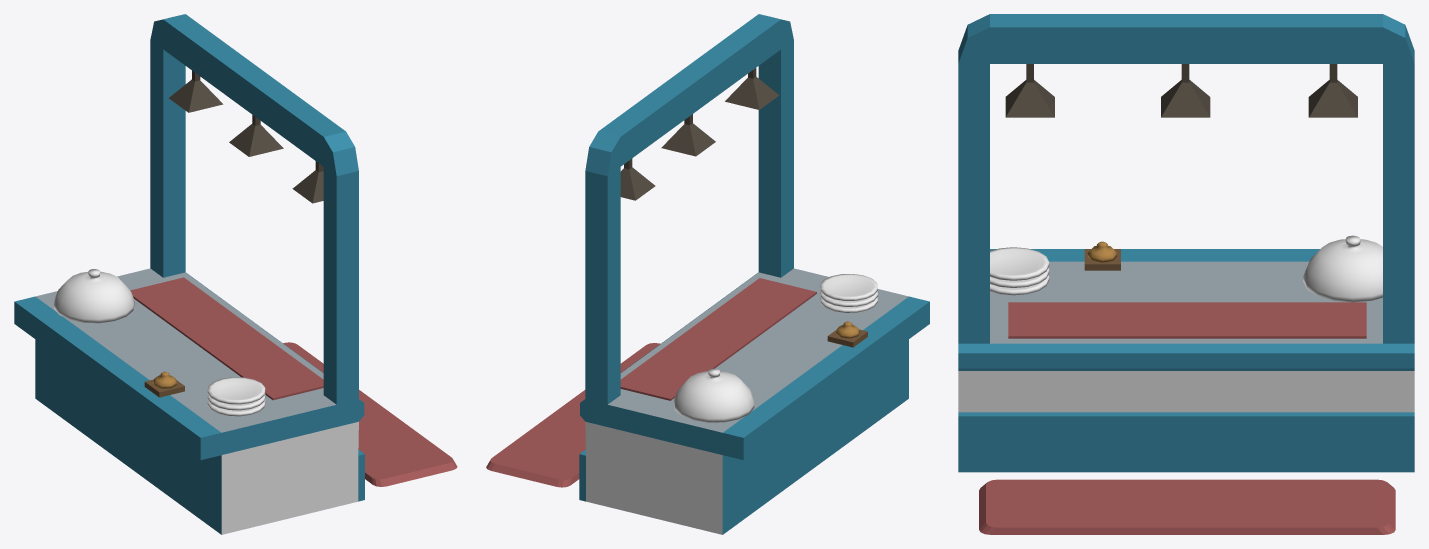
The model's file is 3D_workstation_Dish-pass.fbx.
3 views of the same model, side by side, from view 1: azimuth 30°, elevation 25°; view 2: azimuth 150°, elevation 25°; view 3: azimuth 270°, elevation 25° (orthographic). The views are drawn at different scales.
Visible parts, largest first — view 1: 3D_workstation_Dish-pass_table; view 2: 3D_workstation_Dish-pass_table; view 3: 3D_workstation_Dish-pass_table.
Boxes of the visible parts, box(x1,y1,x2,y2) form: 3D_workstation_Dish-pass_table: box(14, 14, 457, 534); 3D_workstation_Dish-pass_table: box(486, 14, 929, 534); 3D_workstation_Dish-pass_table: box(958, 14, 1414, 534).
Size of the model in its own units: 161 by 207 by 194.
